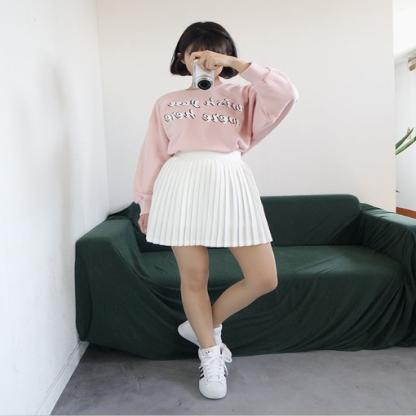dress: (130, 60, 298, 223)
jacket: (141, 146, 269, 252)
